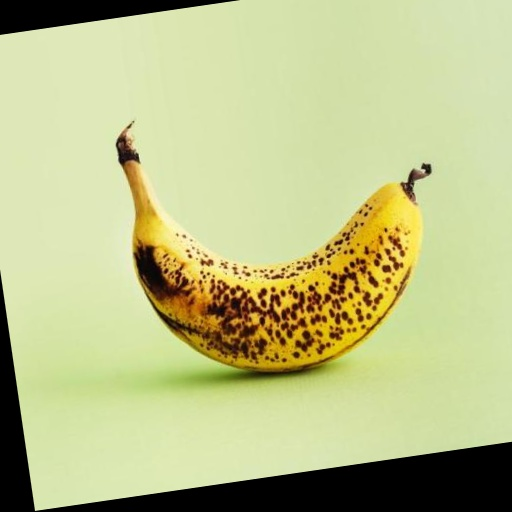fruit: (116, 125, 430, 371)
